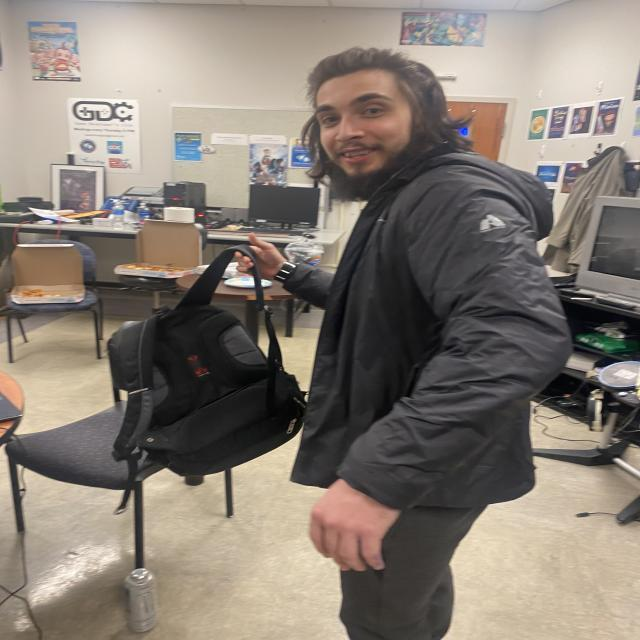Backpacks: (106, 298, 308, 504)
